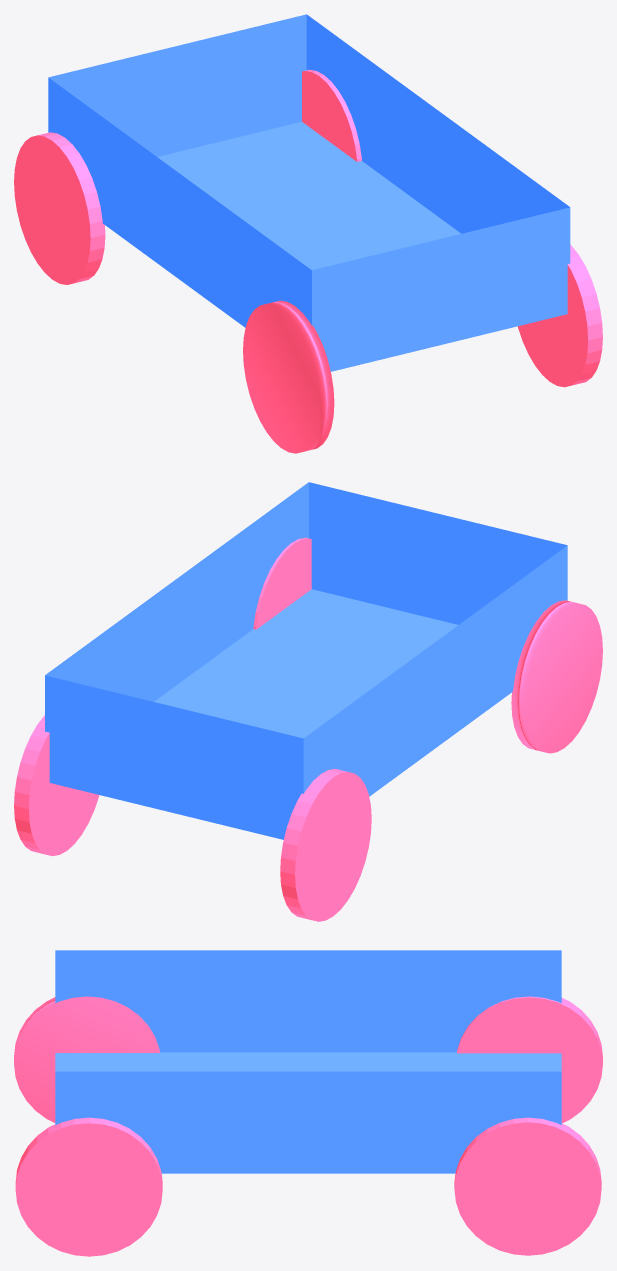
The picture shows the model from 3 angles, top to bottom: view 1: azimuth 30°, elevation 25°; view 2: azimuth 150°, elevation 25°; view 3: azimuth 270°, elevation 25°; orthographic projection. The views are drawn at different scales.
Parts seen in each view (by area): view 1: Cube, Cylinder; view 2: Cube, Cylinder; view 3: Cube, Cylinder.
Part boxes in pixels (<box>): Cube: <box>48,14,570,371</box>; Cylinder: <box>14,69,602,453</box>; Cube: <box>45,482,567,839</box>; Cylinder: <box>14,537,602,921</box>; Cube: <box>55,950,561,1173</box>; Cylinder: <box>14,996,602,1256</box>.
Bounding box in the file's own units: 4.28 × 2.69 × 8.
